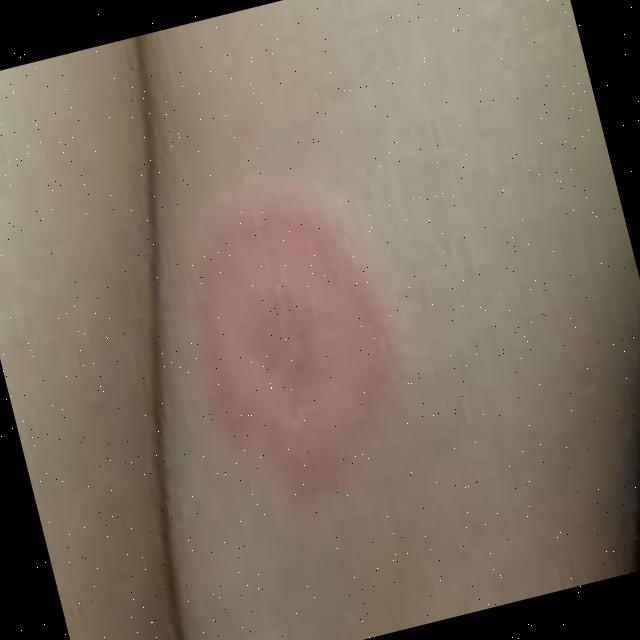kene: (163, 171, 438, 532)
